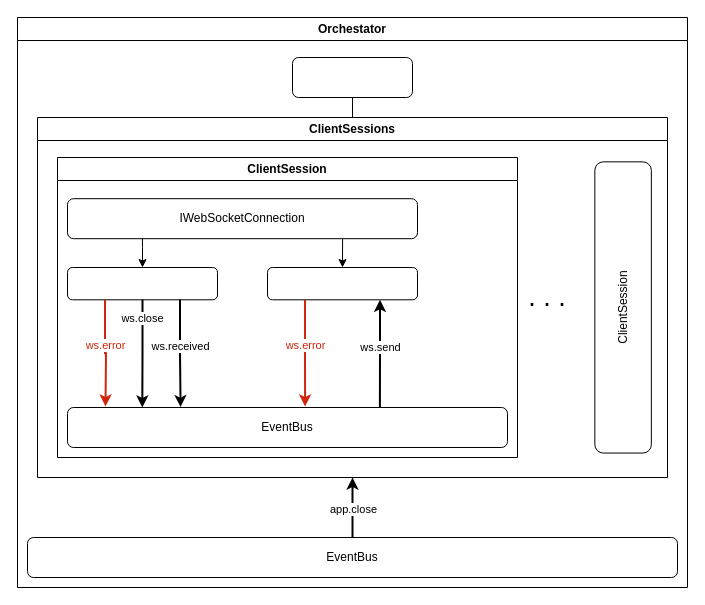
This 705x605 diagram has some shape labels left out. The shapes that lost their labels are listed below. From the top down, each one's centre as x and y in pixels, then its label:
the point at 352,77: Uvicorn
the point at 142,283: IReceiverLoop
the point at 342,283: ISenderLoop
